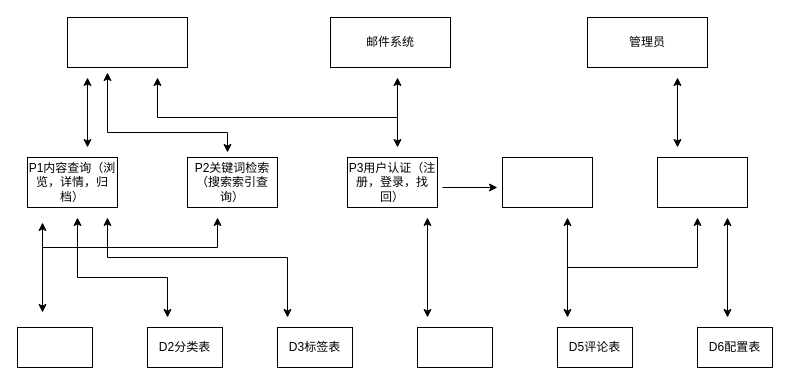
The diagram is 790 pixels wide and 385 high, and some of its shapes have lost their labels. The box of each missing label's shape, as (x1, y1, x2, y2) in pixels:
D1文章表: (16, 326, 92, 368)
D4用户表: (416, 326, 492, 368)
P4评论处理（评论互动）: (502, 156, 592, 208)
P5内容管理（后台增删改）: (656, 156, 748, 208)
用户（游客与注册用户）: (66, 16, 188, 68)
